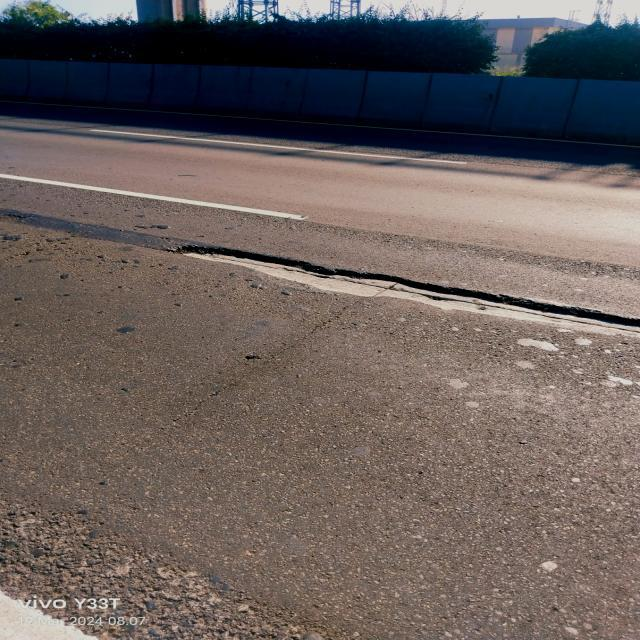Buraco: (171, 241, 640, 340)
